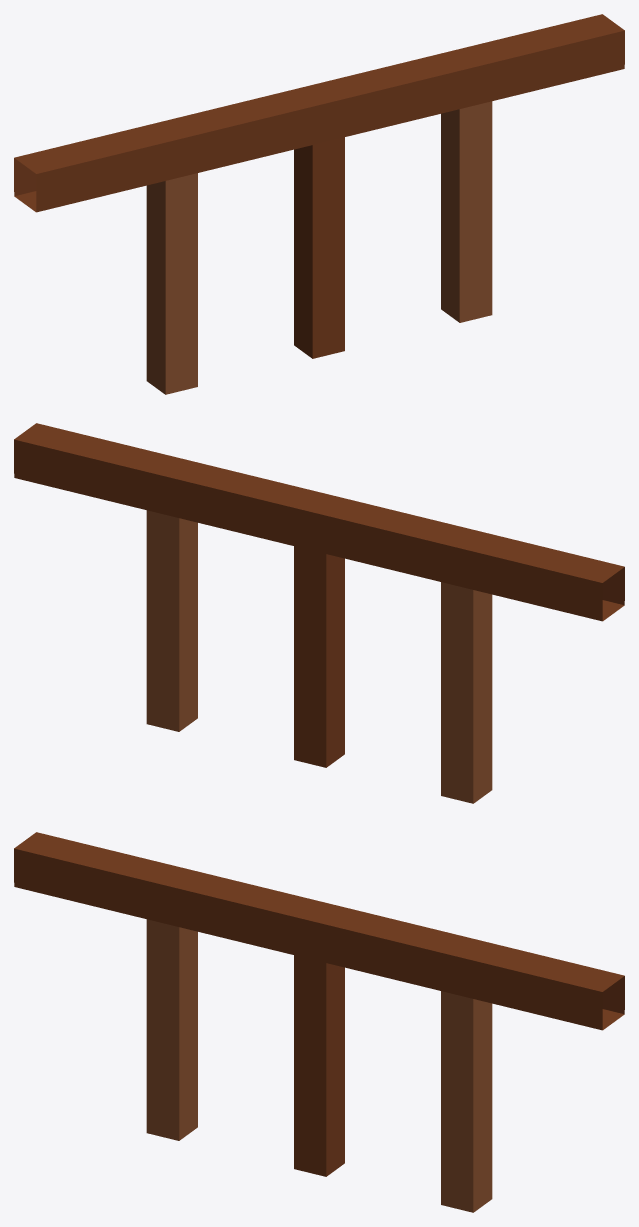
File: Railling.fbx
3 views of the same model, one above another, from view 1: azimuth 30°, elevation 25°; view 2: azimuth 150°, elevation 25°; view 3: azimuth 330°, elevation 25° (orthographic).
Visible parts, largest first — view 1: polySurface1484; view 2: polySurface1484; view 3: polySurface1484.
Boxes of the visible parts, x1=… form: polySurface1484: x1=14, y1=14, x2=624, y2=394; polySurface1484: x1=14, y1=423, x2=624, y2=803; polySurface1484: x1=14, y1=832, x2=624, y2=1212.
Size of the model in its own units: 4 by 1.65 by 0.264.
1 material, 1 textured.
